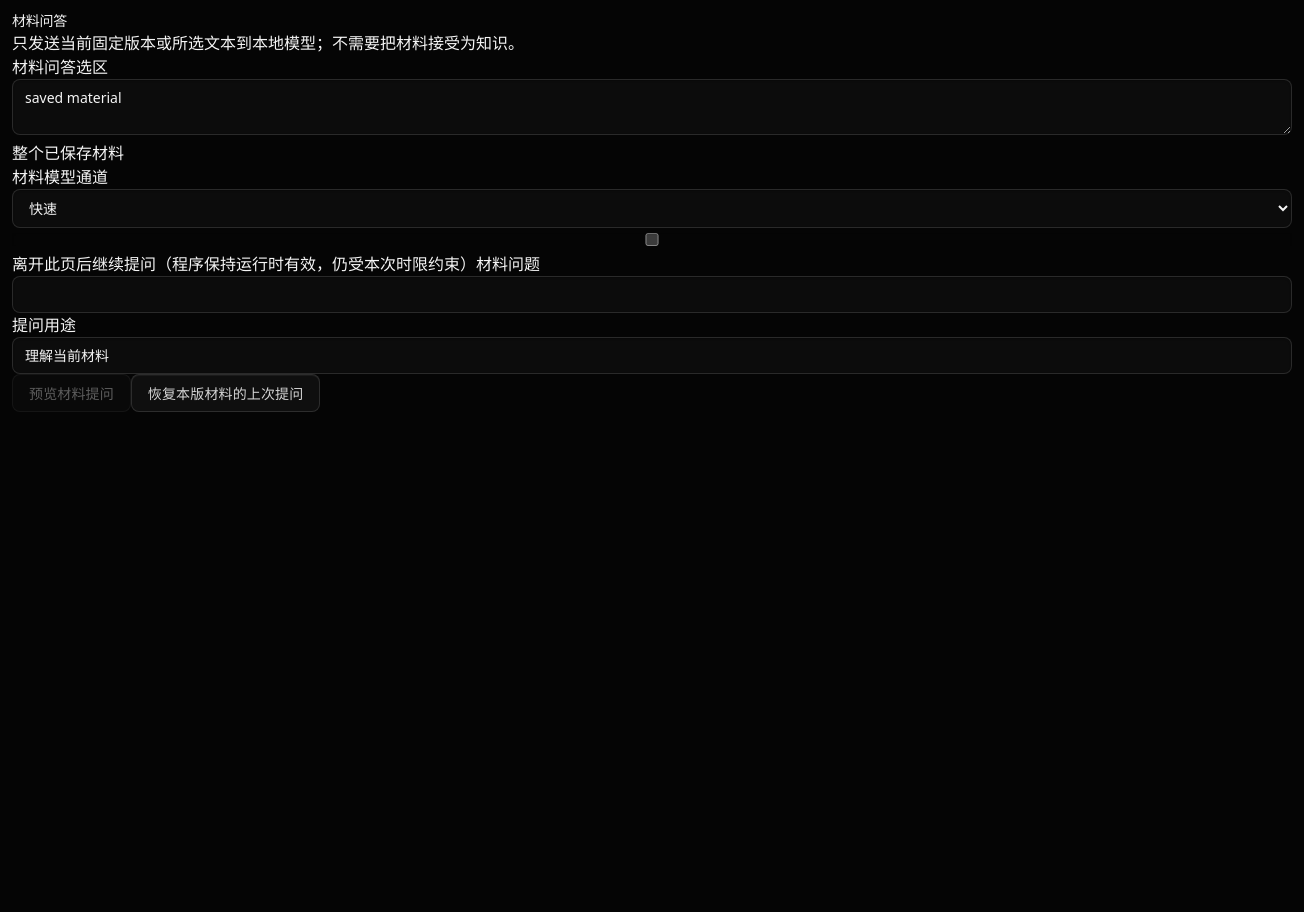
Scenario: keeps recovered request locked when its status returns reject
Click the button "恢复本版材料的上次提问". click: (226, 393)
box: [131,374,320,412]
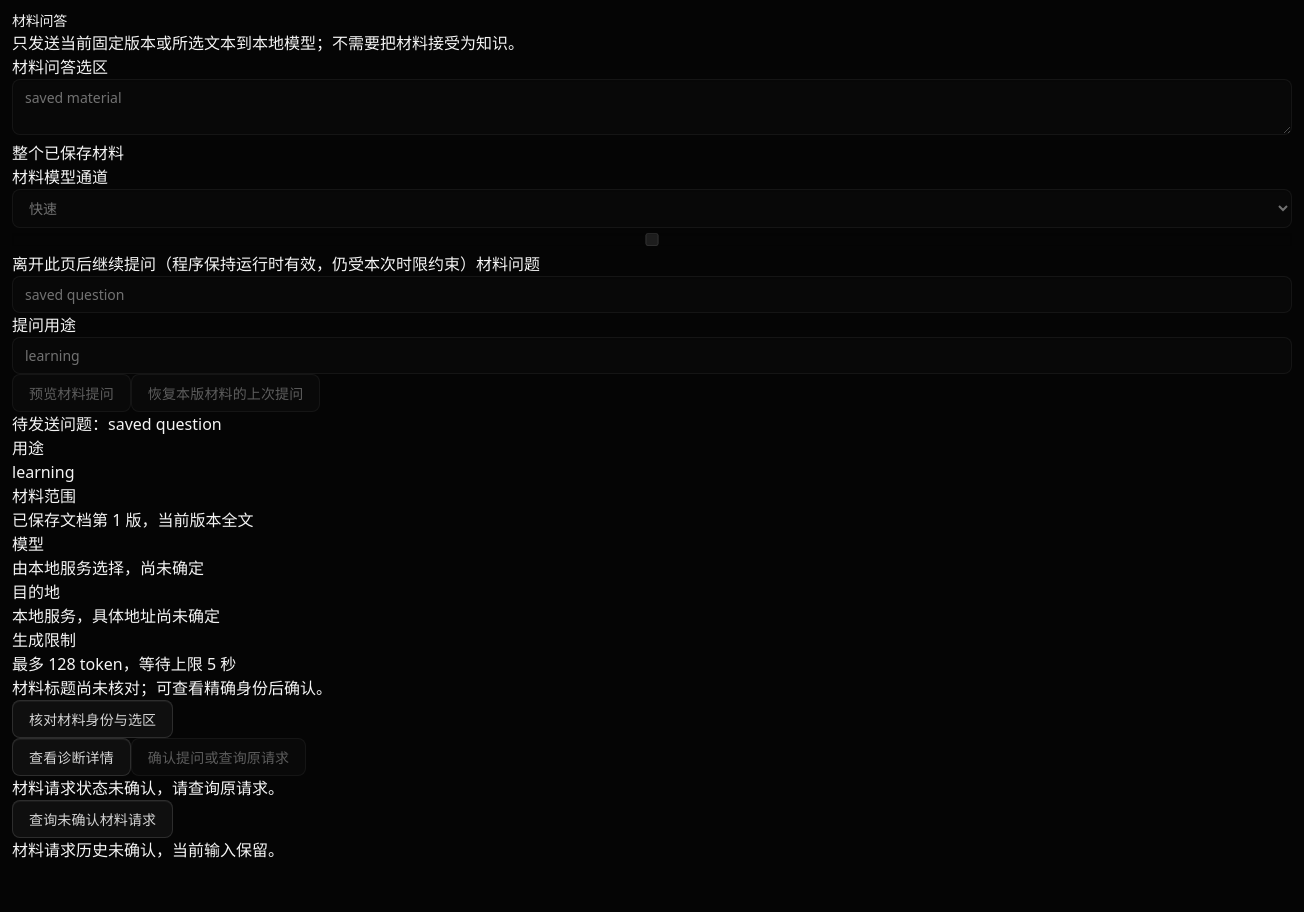
Now the text "材料请求历史未确认，当前输入保留。" is shown, box [12,839,284,861]
Now the field labelled "材料问题" holds "saved question", box [12,276,1292,313]
Now the dropdown labelled "材料模型通道" is disabled, box [12,189,1292,228]
Click the button "查询未确认材料请求". click: (93, 819)
box: [12,800,173,838]
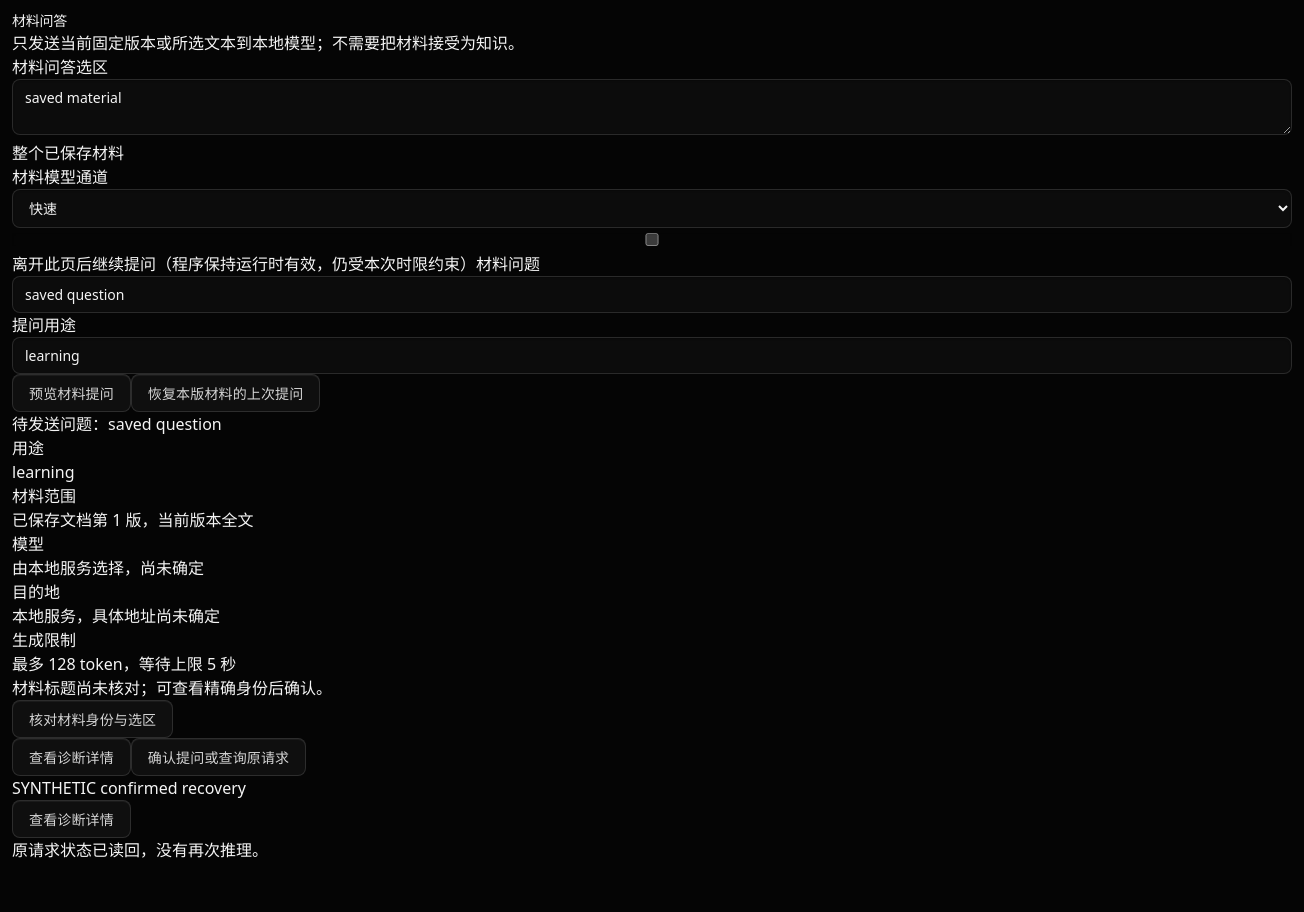
Now the text "SYNTHETIC confirmed recovery" is shown, box [12,777,246,799]
